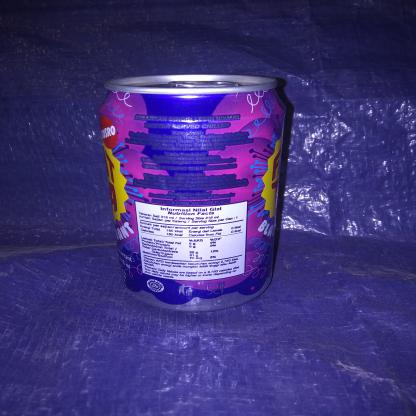mouse: (99, 68, 288, 316)
